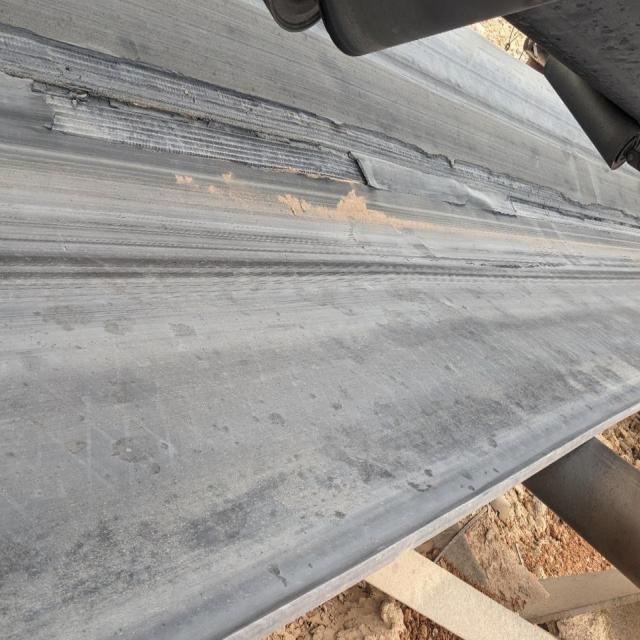Tear: (1, 22, 640, 230)
